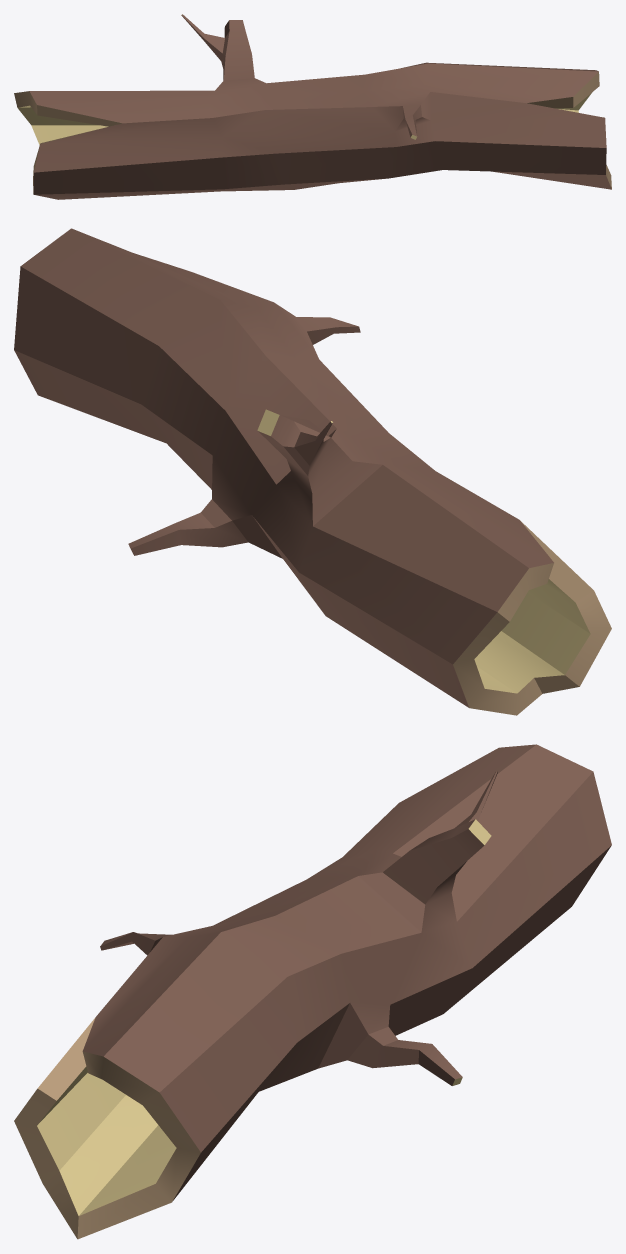
The model's file is Trunks__Stumps_Pack_Tree_trunk_01.001.fbx.
3 renders of one model, top to bottom at view 1: azimuth 30°, elevation 25°; view 2: azimuth 150°, elevation 25°; view 3: azimuth 270°, elevation 25°, orthographic. The views are drawn at different scales.
Parts seen in each view (by area): view 1: Trunks__Stumps_Pack_Tree_trunk_01.001; view 2: Trunks__Stumps_Pack_Tree_trunk_01.001; view 3: Trunks__Stumps_Pack_Tree_trunk_01.001.
Part boxes in pixels (x1,y1,x2,y2): Trunks__Stumps_Pack_Tree_trunk_01.001: (14,14,611,199); Trunks__Stumps_Pack_Tree_trunk_01.001: (14,228,611,715); Trunks__Stumps_Pack_Tree_trunk_01.001: (14,744,611,1239).
Bounding box in the file's own units: 124 × 38.85 × 86.04.
